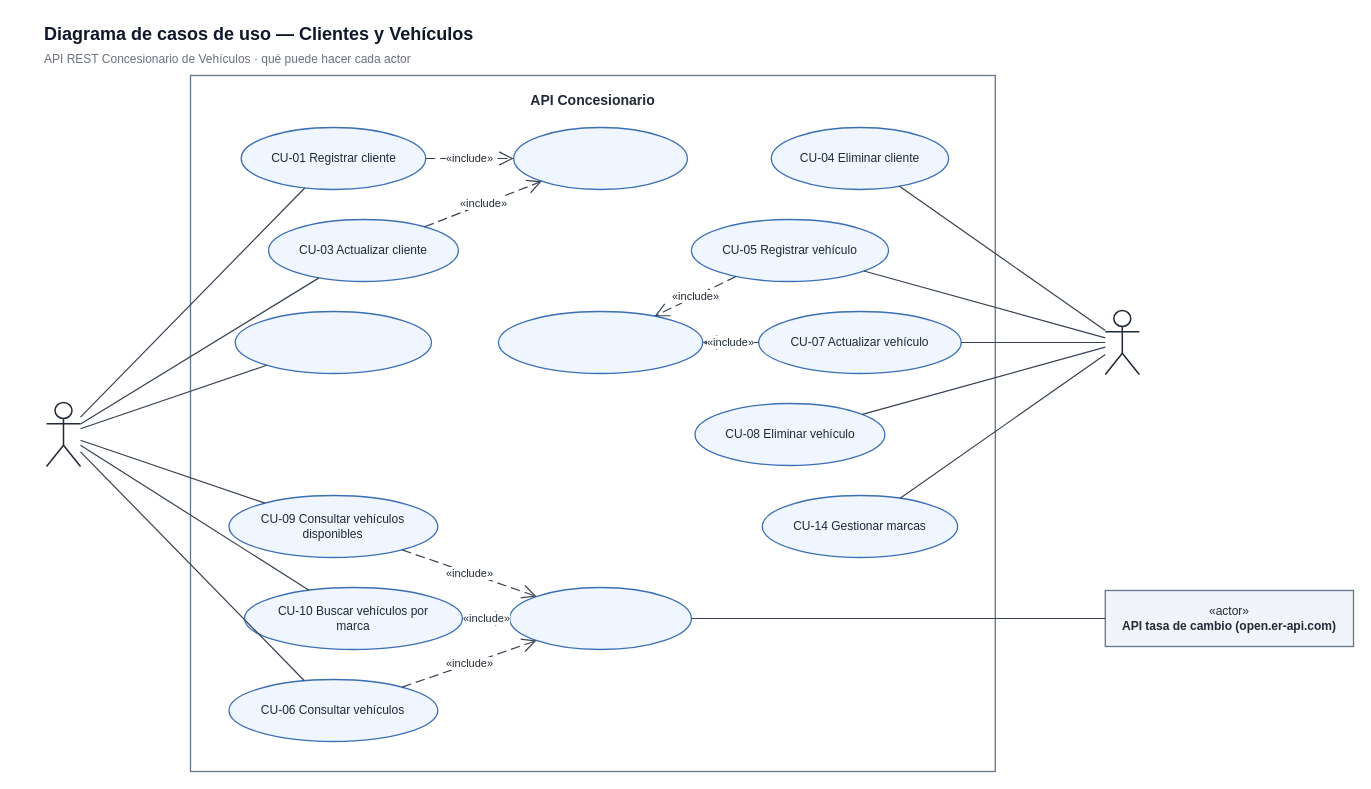
Image size: 1371x789. Some labels were removed from this diagram. Here are the shapes that lost their labels. From the top down, the box of each, then its label:
(513, 126, 688, 190): CU-11 Validar email y documento únicos
(234, 310, 432, 374): CU-02 Consultar clientes
(497, 310, 703, 374): CU-12 Validar placa única
(1104, 309, 1140, 375): Administrador
(45, 401, 81, 467): Asesor comercial
(508, 586, 692, 650): CU-13 Convertir precio COP a USD
